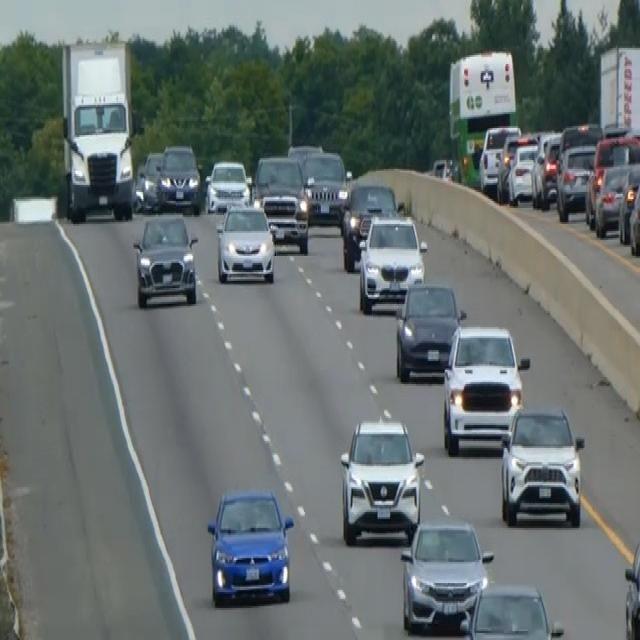bus: (446, 48, 518, 187)
car: (441, 322, 529, 455), (339, 416, 424, 546), (399, 517, 493, 633), (499, 404, 585, 528), (206, 486, 294, 606), (394, 279, 465, 382), (357, 211, 427, 313), (132, 210, 199, 308), (460, 582, 564, 638), (254, 153, 309, 252), (585, 132, 639, 230), (215, 199, 276, 285), (340, 182, 399, 270), (302, 148, 349, 222), (555, 142, 596, 220), (157, 142, 201, 214), (498, 134, 540, 206), (478, 122, 520, 194), (594, 160, 630, 236), (204, 156, 250, 214), (531, 133, 561, 208), (617, 162, 639, 244), (138, 150, 163, 212), (287, 141, 323, 167), (628, 171, 639, 256), (132, 160, 146, 212)
lorry: (59, 38, 137, 222)
